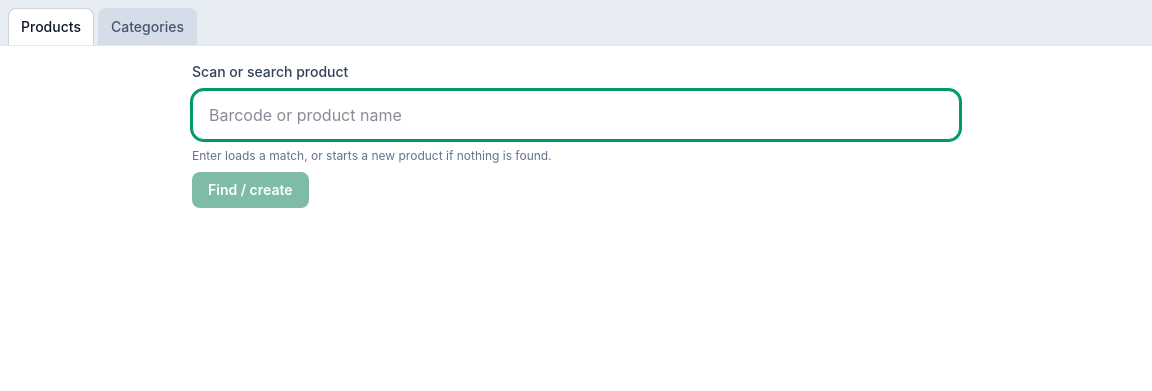
Test: ProductsWorkspace lookup › can switch to Category tab
The image size is (1152, 391).
Click the tab with test id "products-tab-category": (147, 26) top-left (98, 8), bottom-right (197, 45)
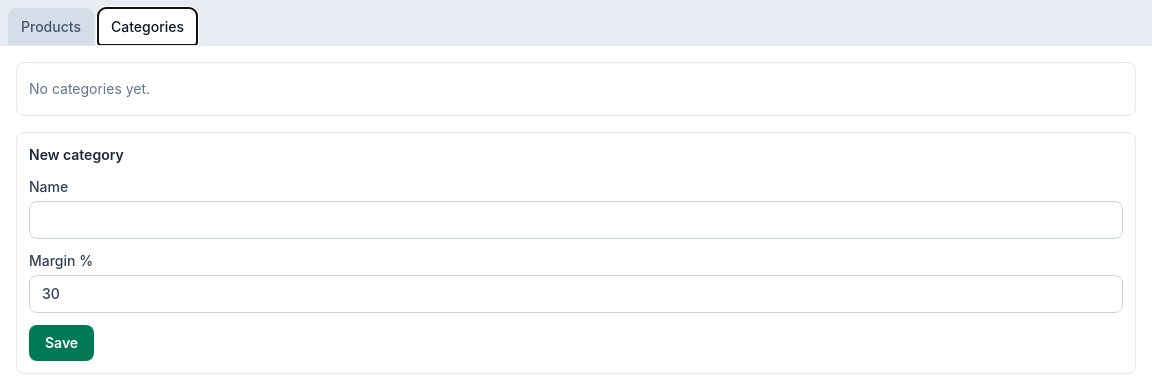
expect the element with test id "category-panel" is shown: met
